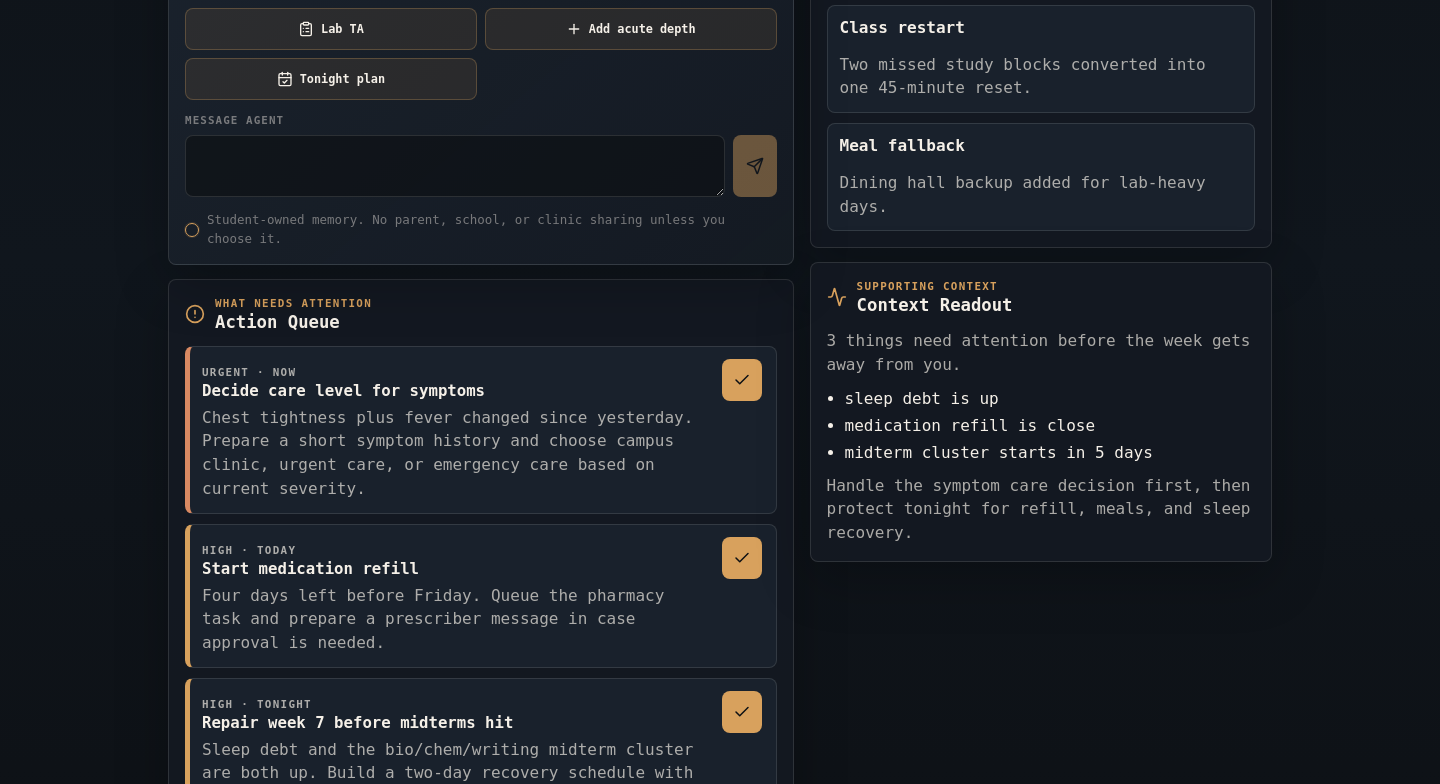
Test case: THREAD app shell › lets the student complete an agent action
This screenshot has width=1440, height=784.
(page scrolled)
Click the button named "mark decide care level for symptoms done": (742, 380) [722,359,762,401]
(page scrolled)
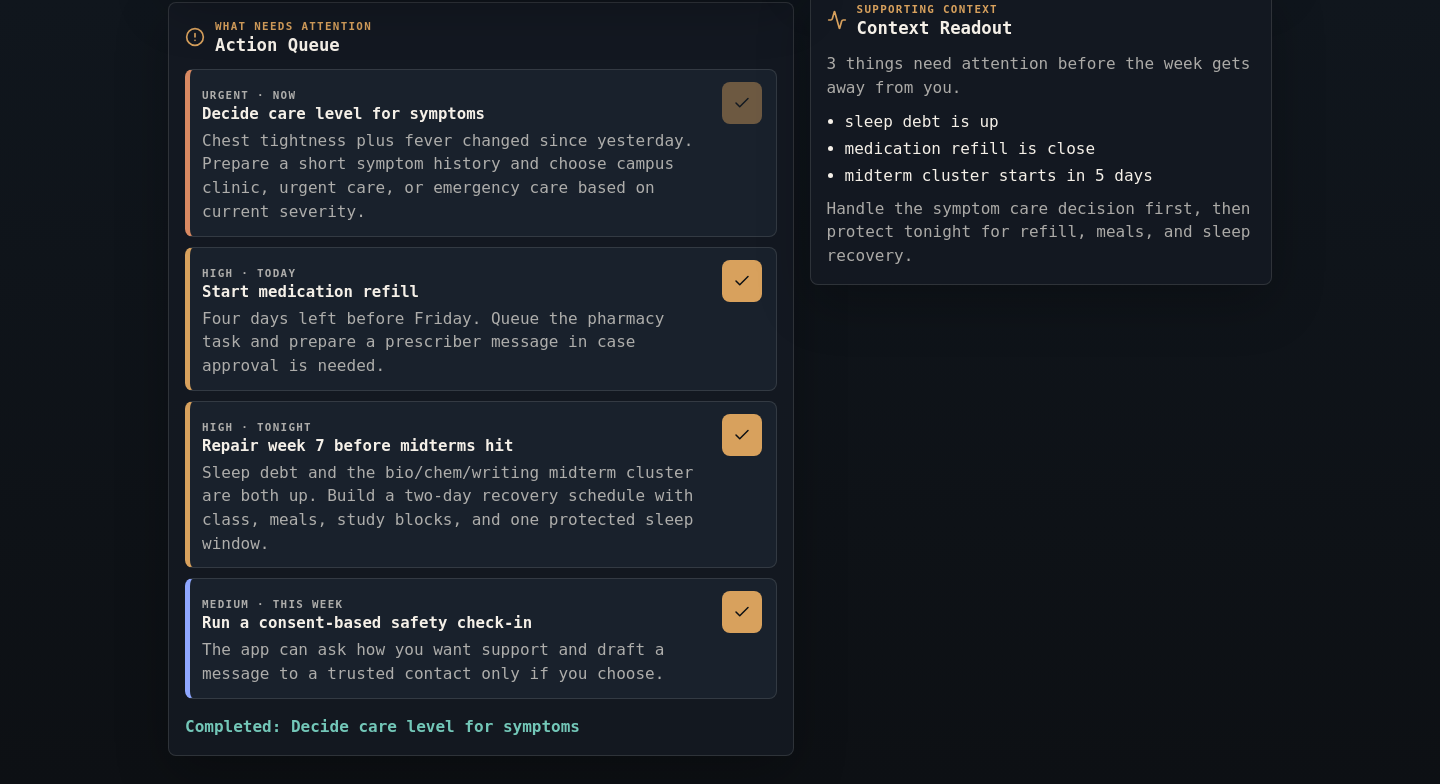
Expected: the text "Completed: Decide care level for symptoms" is shown, [185,717,580,736]
